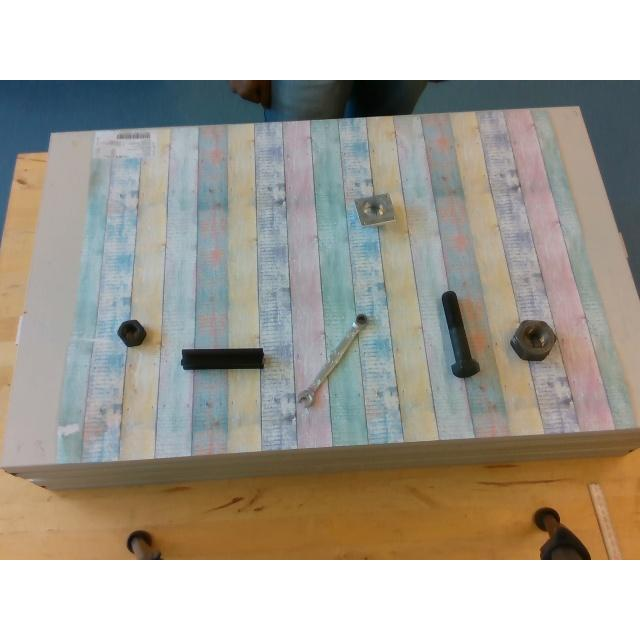F20_20_B: (180, 348, 264, 368)
M20: (117, 319, 145, 345)
M20_100: (442, 292, 478, 376)
M30: (510, 320, 554, 360)
Wrench: (298, 314, 368, 404)
